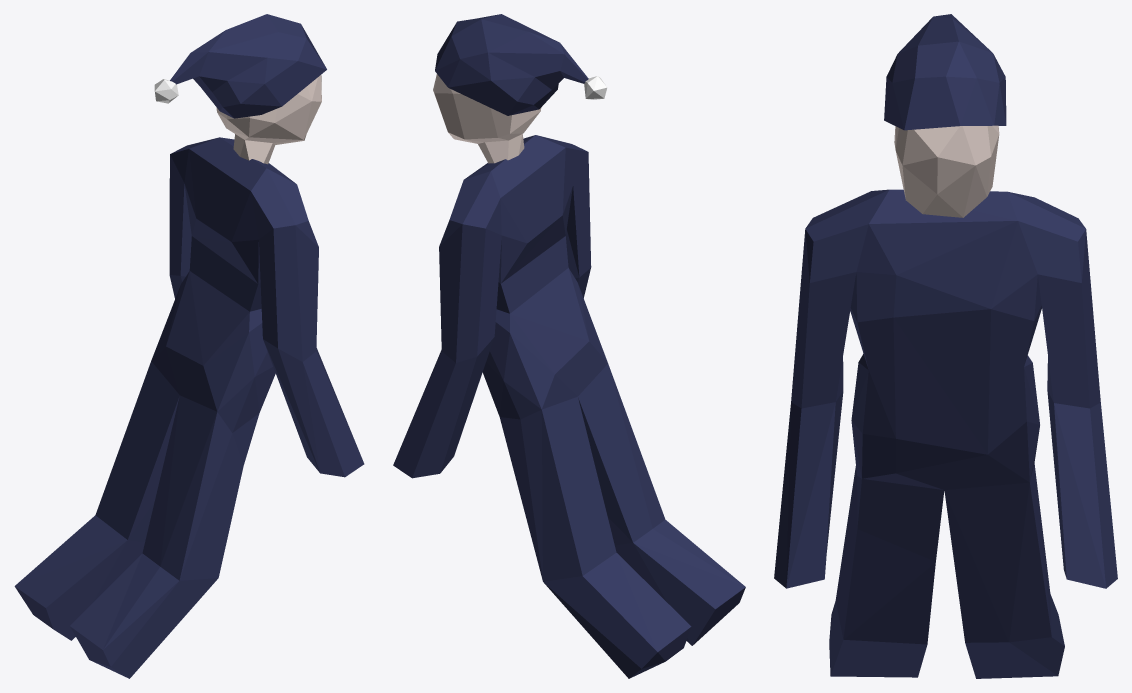
Rendered from Floaty Chief.fbx.
3 renders of one model, left to right at view 1: azimuth 30°, elevation 25°; view 2: azimuth 150°, elevation 25°; view 3: azimuth 270°, elevation 25°, orthographic. The views are drawn at different scales.
Visible parts, largest first — view 1: Cube.003; view 2: Cube.003; view 3: Cube.003.
Part boxes in pixels (x1,y1,x2,y2): Cube.003: [14, 14, 364, 678]; Cube.003: [393, 14, 745, 678]; Cube.003: [774, 14, 1117, 678].
Size of the model in its own units: 370 by 795 by 327.
